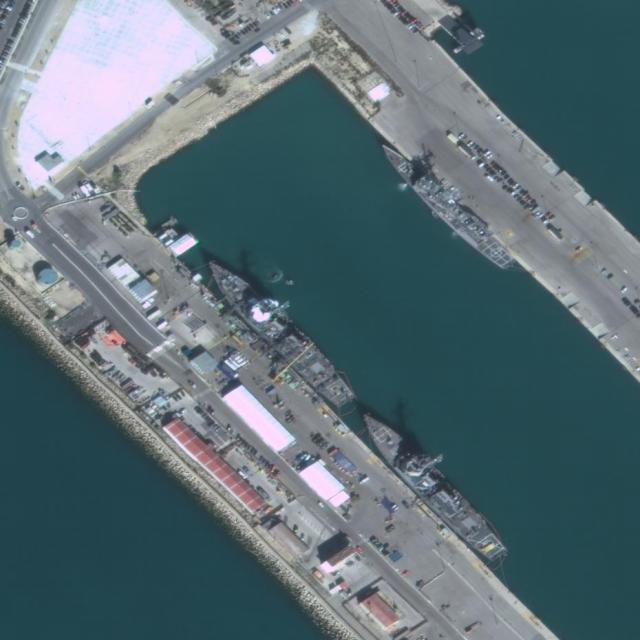Destroyer: (352, 405, 511, 568), (198, 249, 355, 410)
Frigate: (375, 138, 514, 272)
